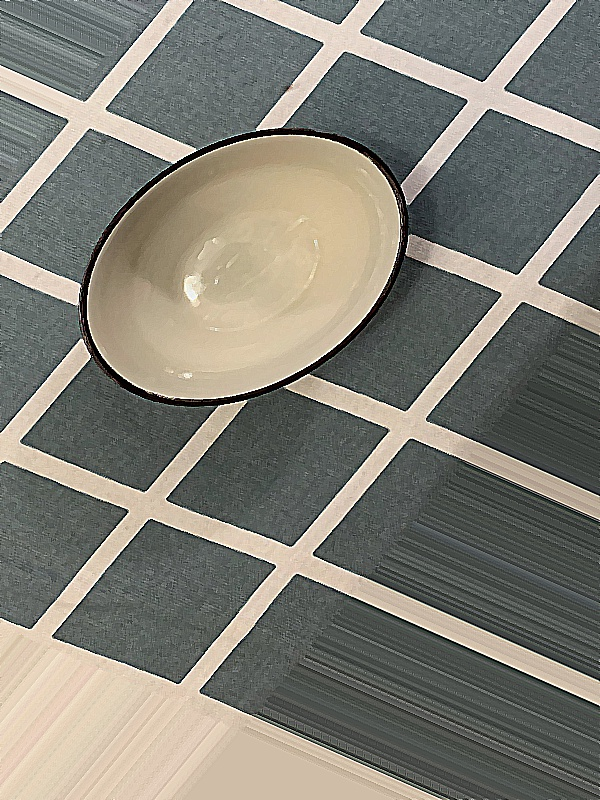bowl_small: (0, 72, 489, 461)
